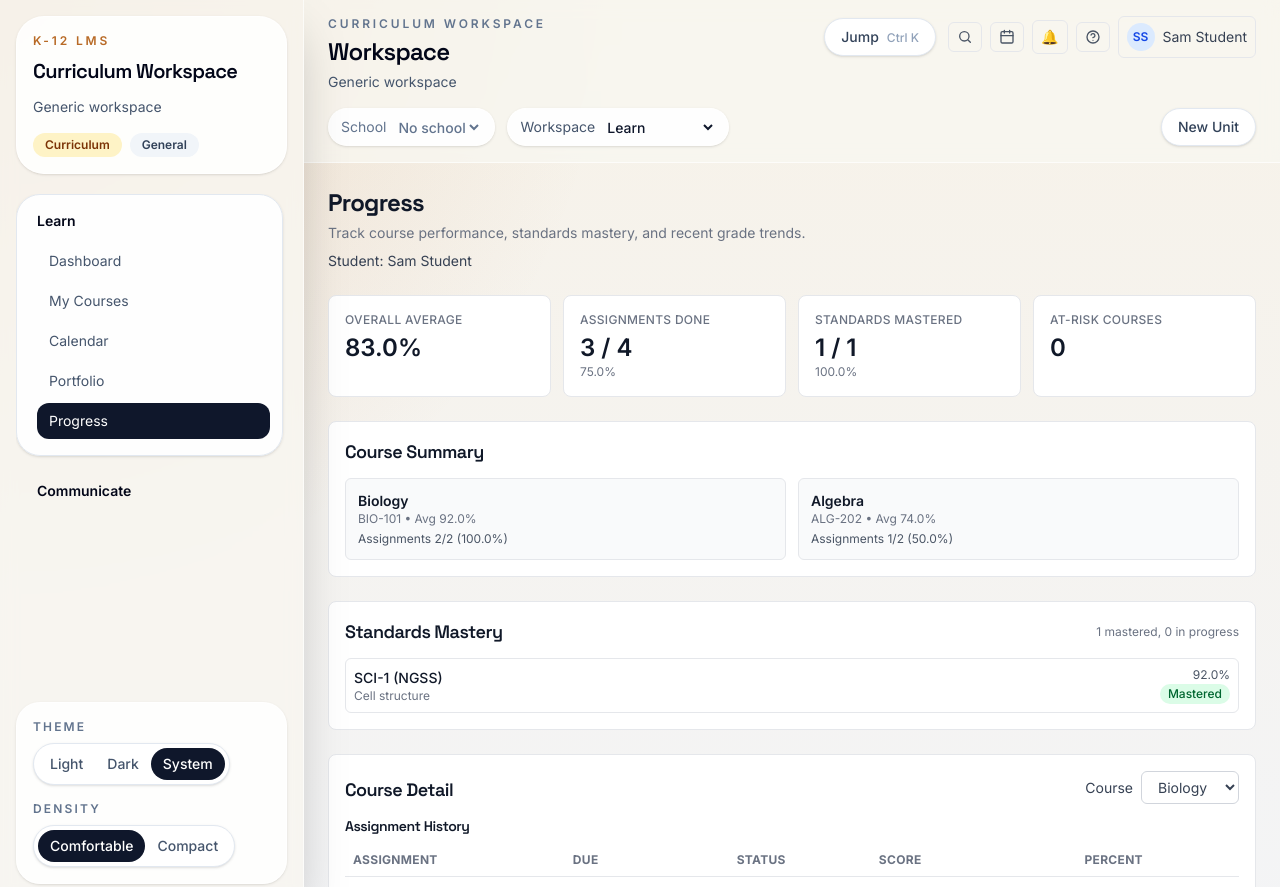
it: Learn Progress Page › loads a different course detail when the selected course changes
Select "Algebra" in the dropdown labelled "Course" at (1190, 788), box [1141,771,1239,804]
(page scrolled)
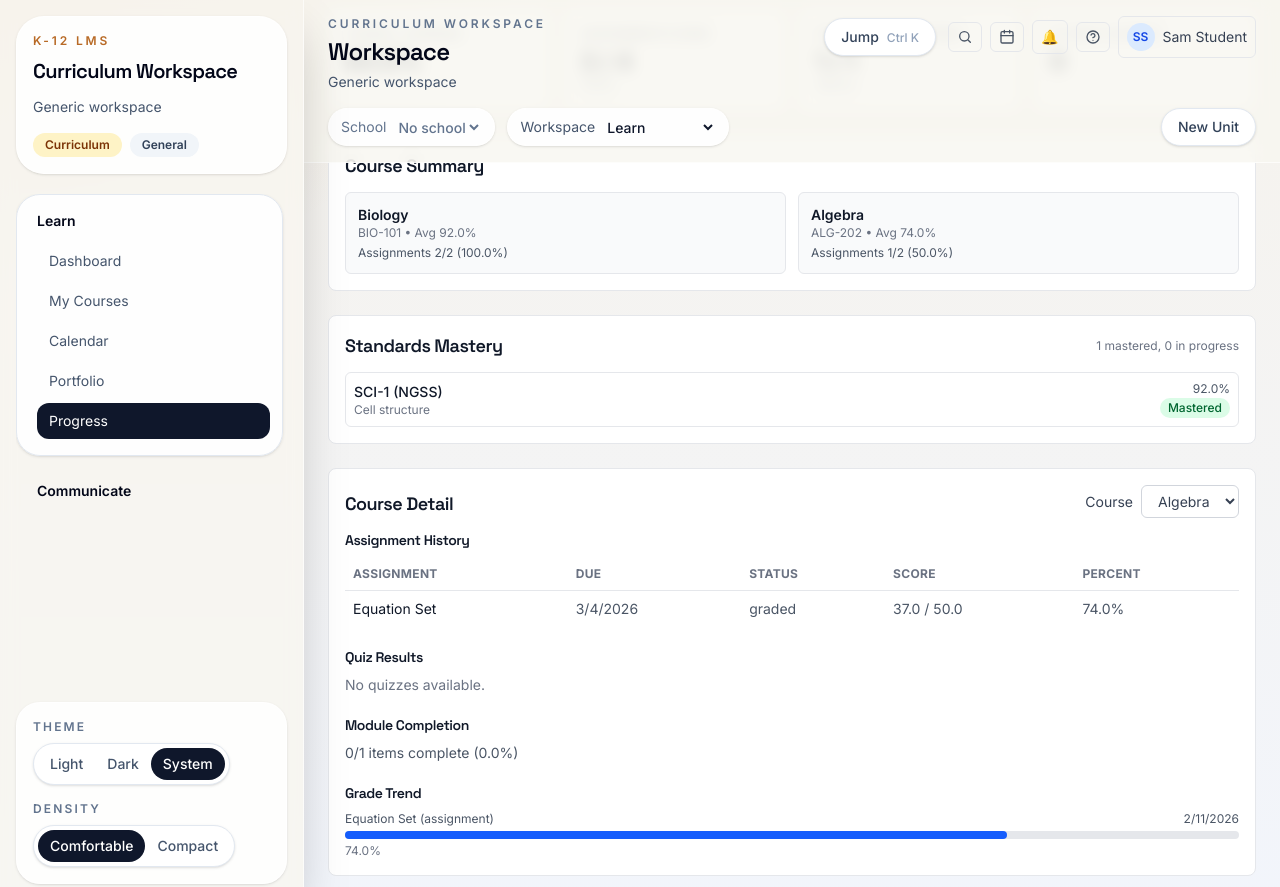
Result: the text "Equation Set" is shown at [345,590,568,627]
